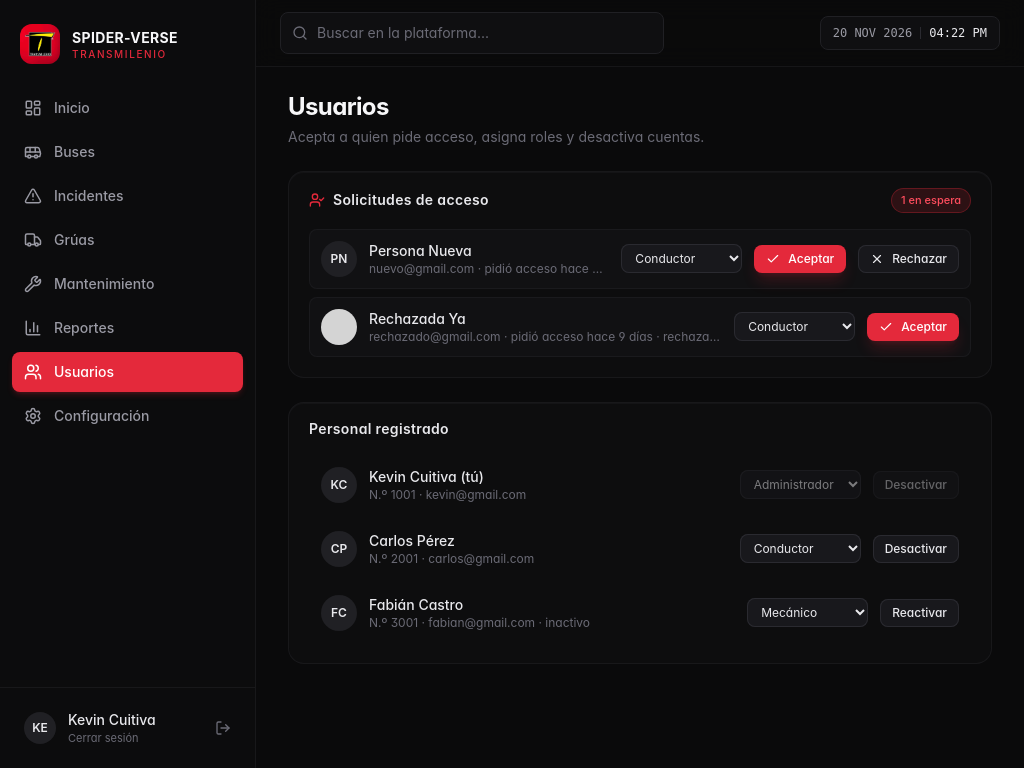
Scenario: pantalla Usuarios: solicitudes de acceso › si otro administrador ya la decidió, muestra el mensaje del back
Check: the text "Persona Nueva" is shown, box [369, 242, 472, 258]
Click the button "Aceptar" in the row of "nuevo@gmail.com" at (800, 258), box [754, 244, 846, 272]
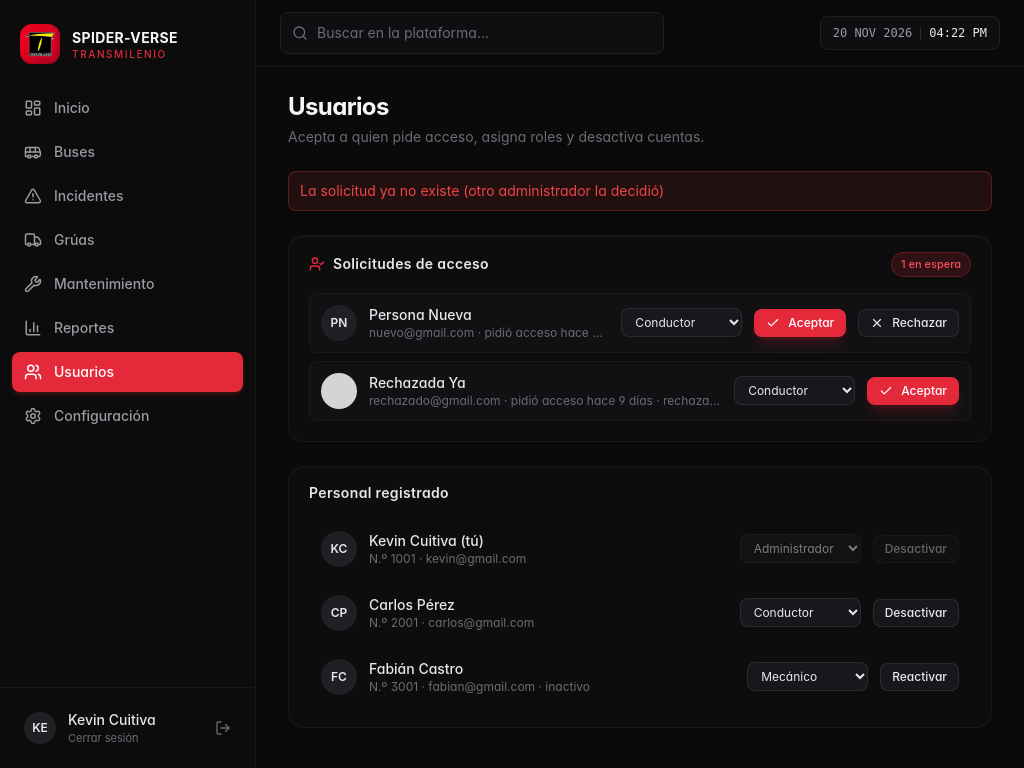
Check: the message shows "otro administrador", box [300, 182, 664, 199]
